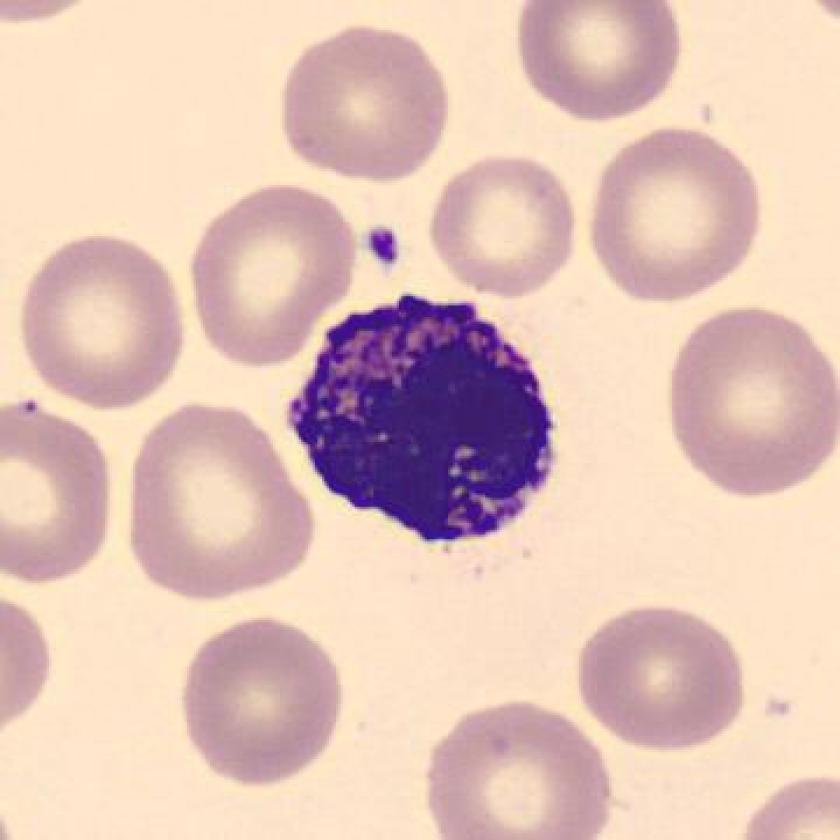basophil: (272, 290, 563, 559)
